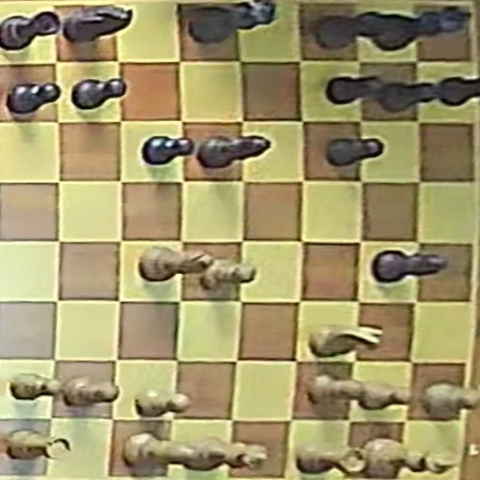black-bishop: (374, 250, 447, 283), (198, 135, 270, 168)
black-king: (369, 4, 473, 54)
black-knight: (64, 5, 132, 44)
black-pawn: (328, 75, 396, 106), (377, 80, 442, 112), (7, 82, 60, 115), (326, 137, 383, 167), (73, 78, 126, 110), (143, 136, 194, 166), (436, 74, 478, 106)
black-queen: (185, 1, 275, 44)
black-rook: (313, 10, 387, 51), (1, 10, 61, 50)
white-bishop: (140, 246, 213, 281), (125, 433, 200, 467)
white-king: (360, 438, 457, 476)
white-knight: (310, 324, 382, 356)
white-pawn: (419, 383, 478, 419), (62, 376, 120, 407), (200, 259, 256, 289), (308, 375, 363, 405), (136, 389, 191, 417), (357, 381, 412, 409), (9, 373, 61, 400)
white-queen: (183, 439, 272, 472)
white-rook: (4, 430, 74, 466), (295, 443, 367, 475)
